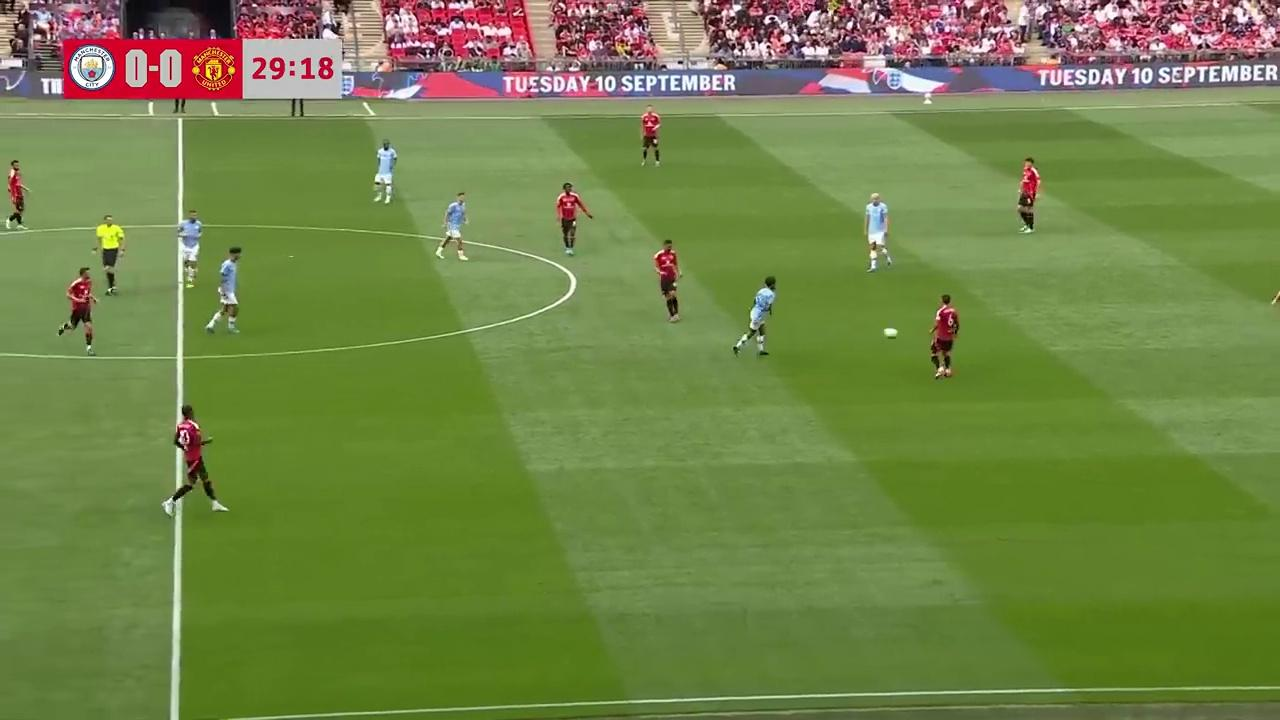ball: (881, 324, 899, 338)
player: (162, 404, 228, 515), (57, 267, 98, 354), (733, 276, 776, 358), (205, 246, 242, 335), (555, 182, 593, 255), (929, 293, 959, 380), (435, 191, 469, 261), (653, 239, 681, 322), (863, 192, 892, 272), (1015, 156, 1042, 233), (178, 210, 203, 289), (4, 160, 30, 232), (373, 139, 398, 203), (639, 106, 661, 167), (1270, 255, 1280, 325)
referee: (93, 214, 125, 295)
